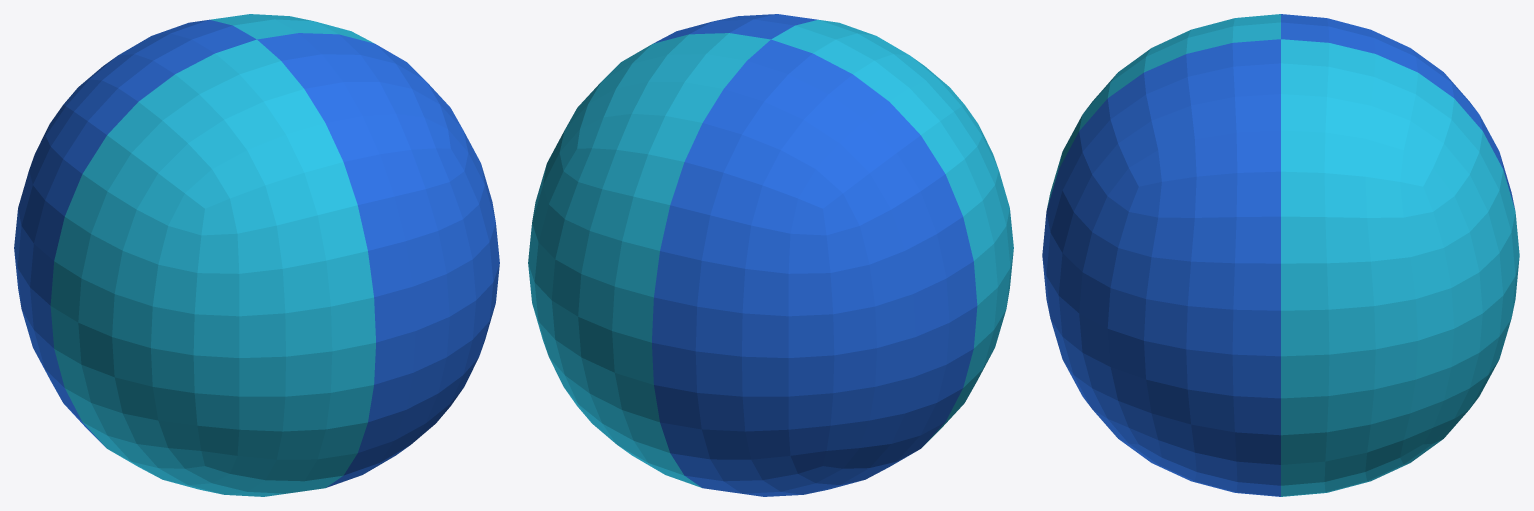
The model's file is brazo-esferaPlayer.glb.
3 views of the same model, side by side, from view 1: azimuth 30°, elevation 25°; view 2: azimuth 150°, elevation 25°; view 3: azimuth 270°, elevation 25° (orthographic).
Parts seen in each view (by area): view 1: Cube.001; view 2: Cube.001; view 3: Cube.001.
Boxes of the visible parts, <box> form: Cube.001: <box>14,14,499,496</box>; Cube.001: <box>528,14,1013,496</box>; Cube.001: <box>1042,14,1519,496</box>.
Size of the model in its own units: 1.68 by 1.68 by 1.68.
